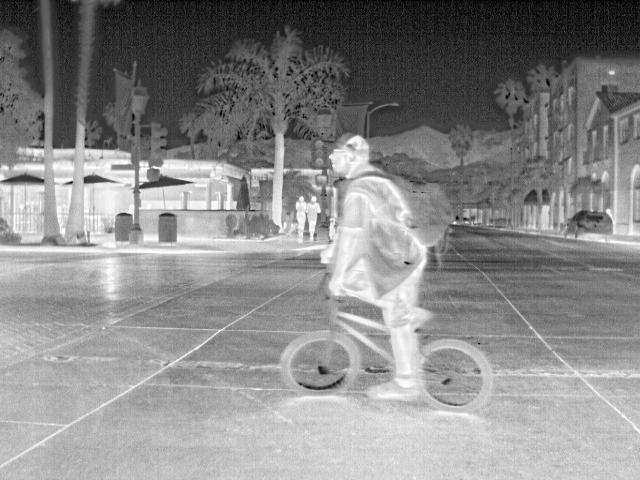car: (563, 211, 614, 243)
person: (325, 132, 435, 401), (304, 195, 322, 242), (293, 195, 309, 242)
